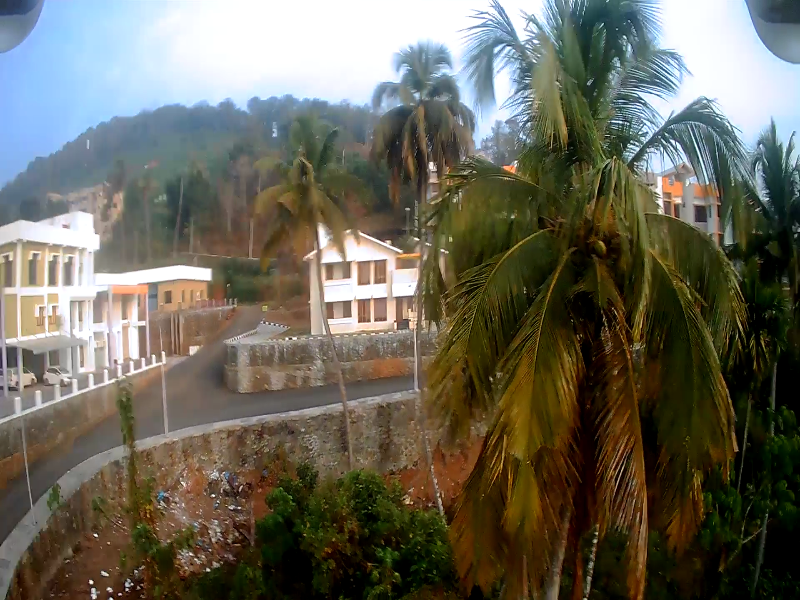coconut: (589, 234, 610, 254)
